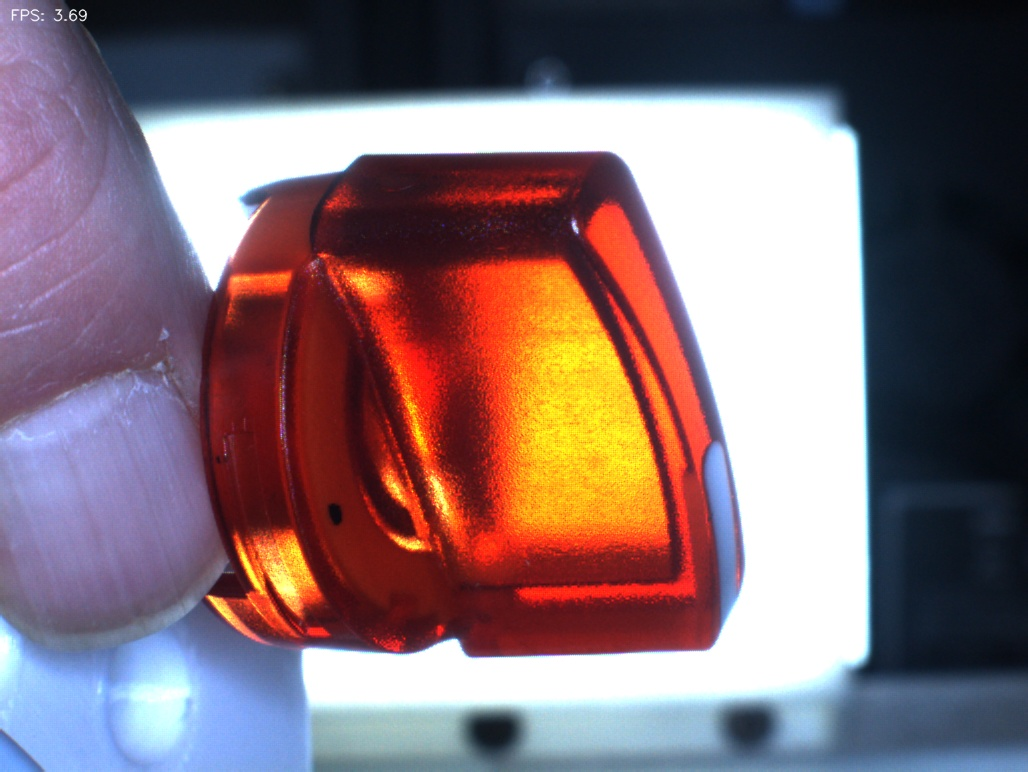PointNoir: (298, 472, 374, 561)
